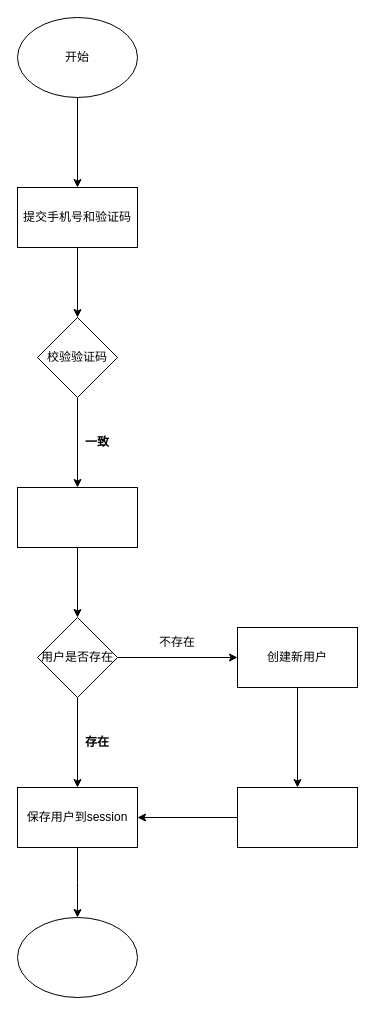
This 375x1015 diagram has some shape labels left out. The shapes that lost their labels are listed below. From the top down, each one's box as (x1, y1, x2, y2) in pixels, then its label:
(16, 486, 138, 548): 根据手机号查询用户
(236, 786, 358, 848): 保存用户到数据库
(16, 916, 138, 998): 结束
